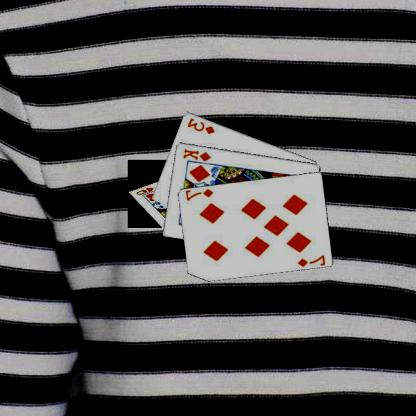3D: (186, 115, 218, 135)
7D: (185, 186, 216, 202), (297, 252, 328, 267)
KD: (182, 146, 214, 162)
